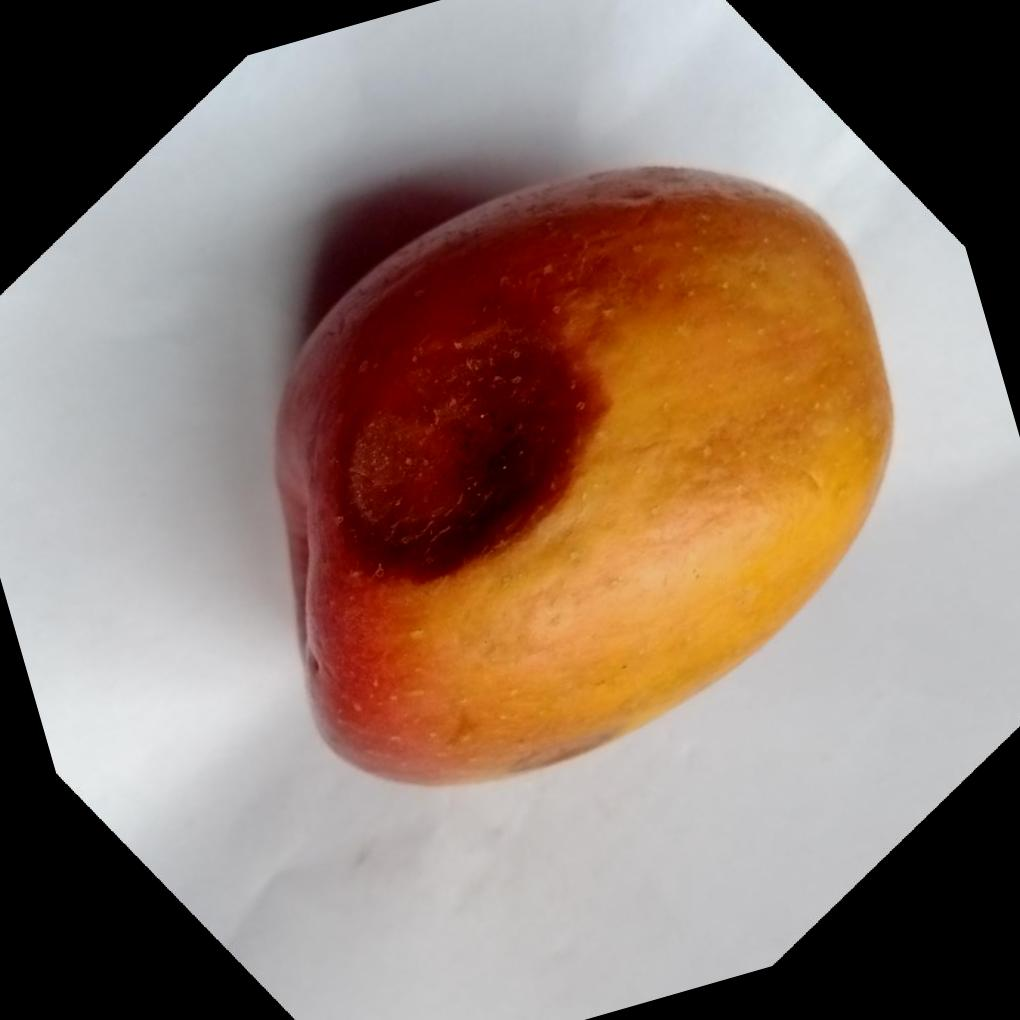FreshOrange: (267, 162, 892, 790)
